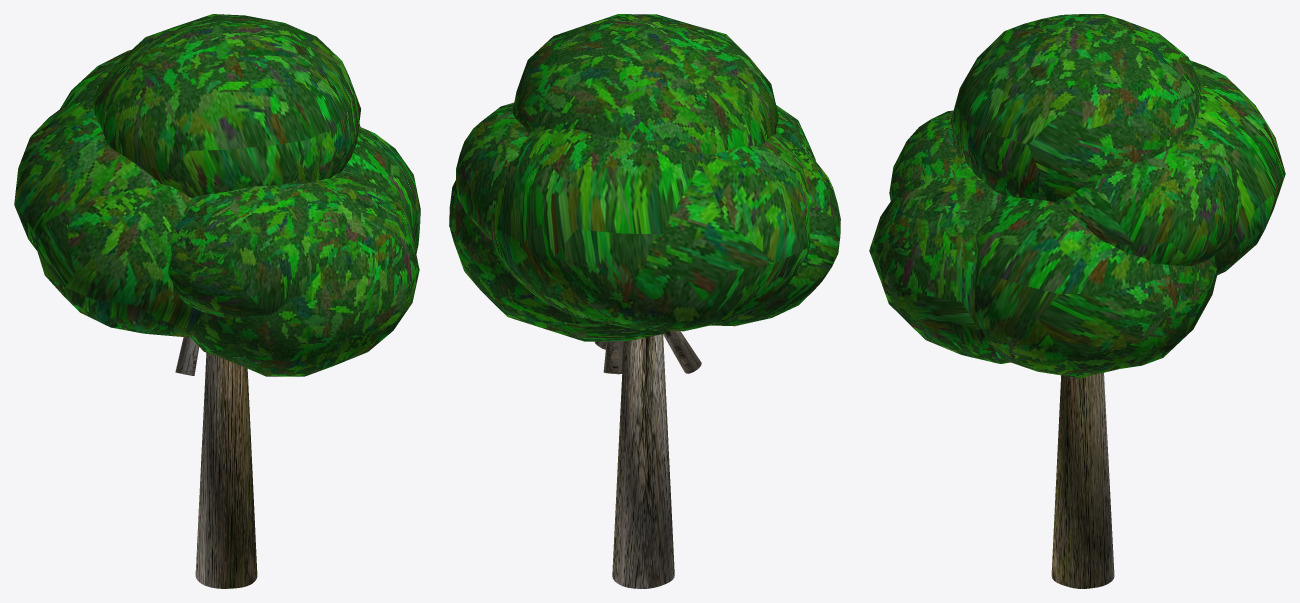
Rendered from tree_detailed.glb.
The picture shows the model from 3 angles, left to right: view 1: azimuth 30°, elevation 25°; view 2: azimuth 150°, elevation 25°; view 3: azimuth 270°, elevation 25°; orthographic projection.
Visible parts, largest first — view 1: Canopy_top, Canopy_9, Canopy_8, Canopy_6, Trunk, Canopy_4, Canopy_0, Canopy_3, Trunk_fork_1; view 2: Canopy_top, Canopy_3, Canopy_4, Trunk, Canopy_0, Canopy_2, Canopy_6, Trunk_fork_1, Canopy_8, Trunk_fork_0; view 3: Canopy_top, Canopy_0, Canopy_9, Canopy_2, Trunk, Canopy_3, Canopy_8.
Boxes of the visible parts, <box> form: Canopy_top: <box>92,14,360,197</box>; Canopy_9: <box>189,169,419,376</box>; Canopy_8: <box>168,178,346,317</box>; Canopy_6: <box>35,184,201,336</box>; Trunk: <box>195,353,257,588</box>; Canopy_4: <box>14,98,161,250</box>; Canopy_0: <box>343,126,420,253</box>; Canopy_3: <box>60,50,130,108</box>; Trunk_fork_1: <box>175,336,199,375</box>; Canopy_top: <box>512,14,778,154</box>; Canopy_3: <box>491,128,699,324</box>; Canopy_4: <box>604,134,810,331</box>; Trunk: <box>612,334,674,588</box>; Canopy_0: <box>449,180,668,341</box>; Canopy_2: <box>456,102,530,239</box>; Canopy_6: <box>710,132,840,326</box>; Trunk_fork_1: <box>663,331,701,373</box>; Canopy_8: <box>776,105,815,160</box>; Trunk_fork_0: <box>603,341,623,374</box>; Canopy_top: <box>950,14,1201,202</box>; Canopy_0: <box>974,195,1217,378</box>; Canopy_9: <box>869,176,1010,363</box>; Canopy_2: <box>1053,135,1241,265</box>; Trunk: <box>1051,373,1114,588</box>; Canopy_3: <box>1190,60,1285,275</box>; Canopy_8: <box>889,110,976,200</box>.
Bounding box in the file's own units: 4.21 × 6.17 × 4.24.
2 materials, 2 textured.
